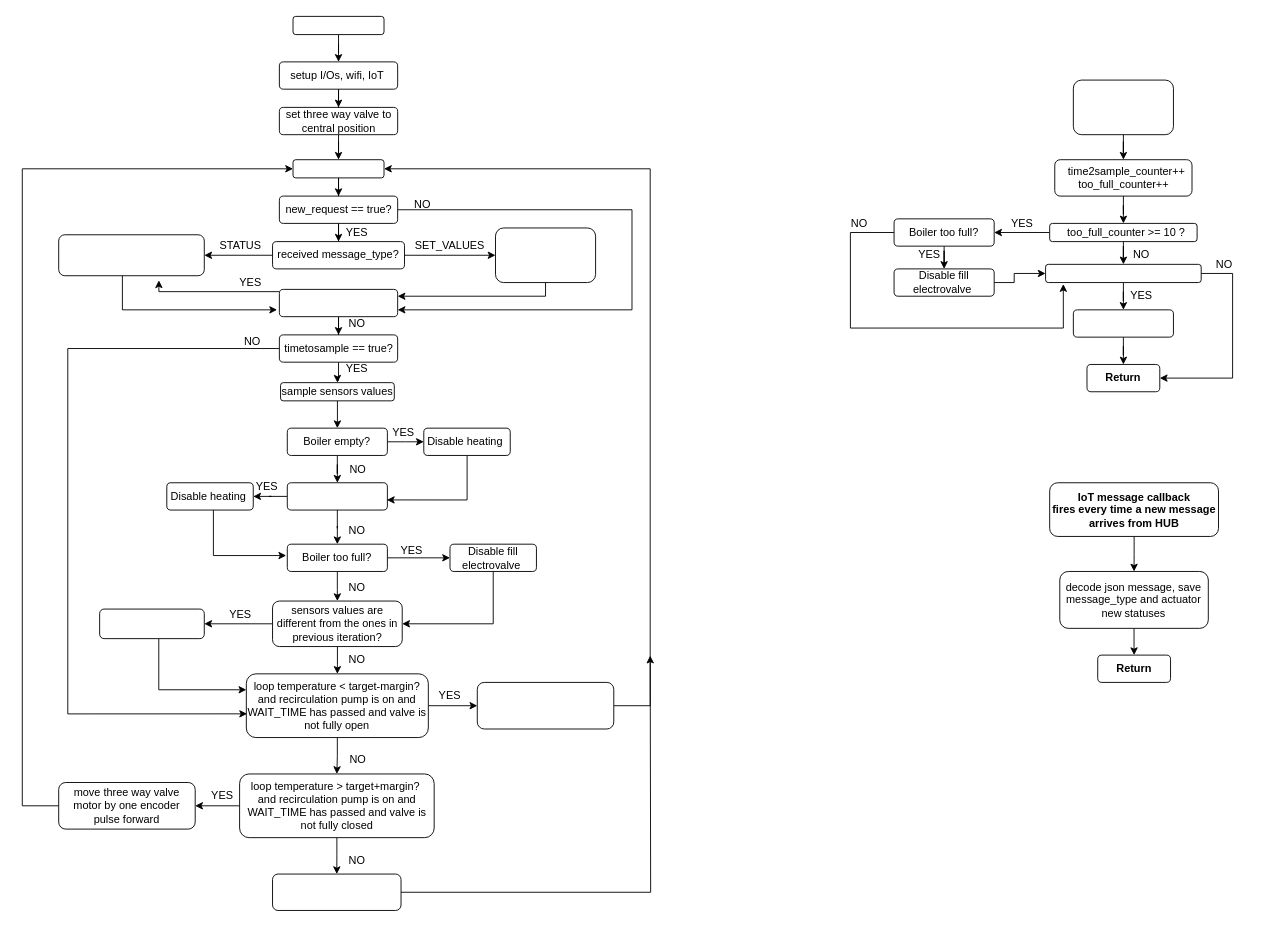
The diagram is 1268 pixels wide and 926 high, and some of its shapes have lost their labels. Each missing label, with the box of its shape:
Boiler temperature > 85 deg C?: (286, 482, 387, 510)
don't move the motor, loop temperature is ok: (272, 873, 401, 910)
loop: (292, 159, 384, 178)
Main: (292, 15, 384, 35)
move three way valve motor by one encoder pulse in reverse: (476, 681, 614, 729)
new_status = true: (99, 608, 204, 639)
new_status == true?: (278, 288, 398, 317)
Perform change actuator states and send ACK: (495, 227, 596, 283)
Send message with sensors and actuators statuses: (58, 234, 204, 276)
time2sample_counter >= 50 ?: (1045, 263, 1201, 283)
Timer ISR fires every 100ms: (1072, 79, 1173, 135)
timetosample = true: (1072, 309, 1173, 337)
